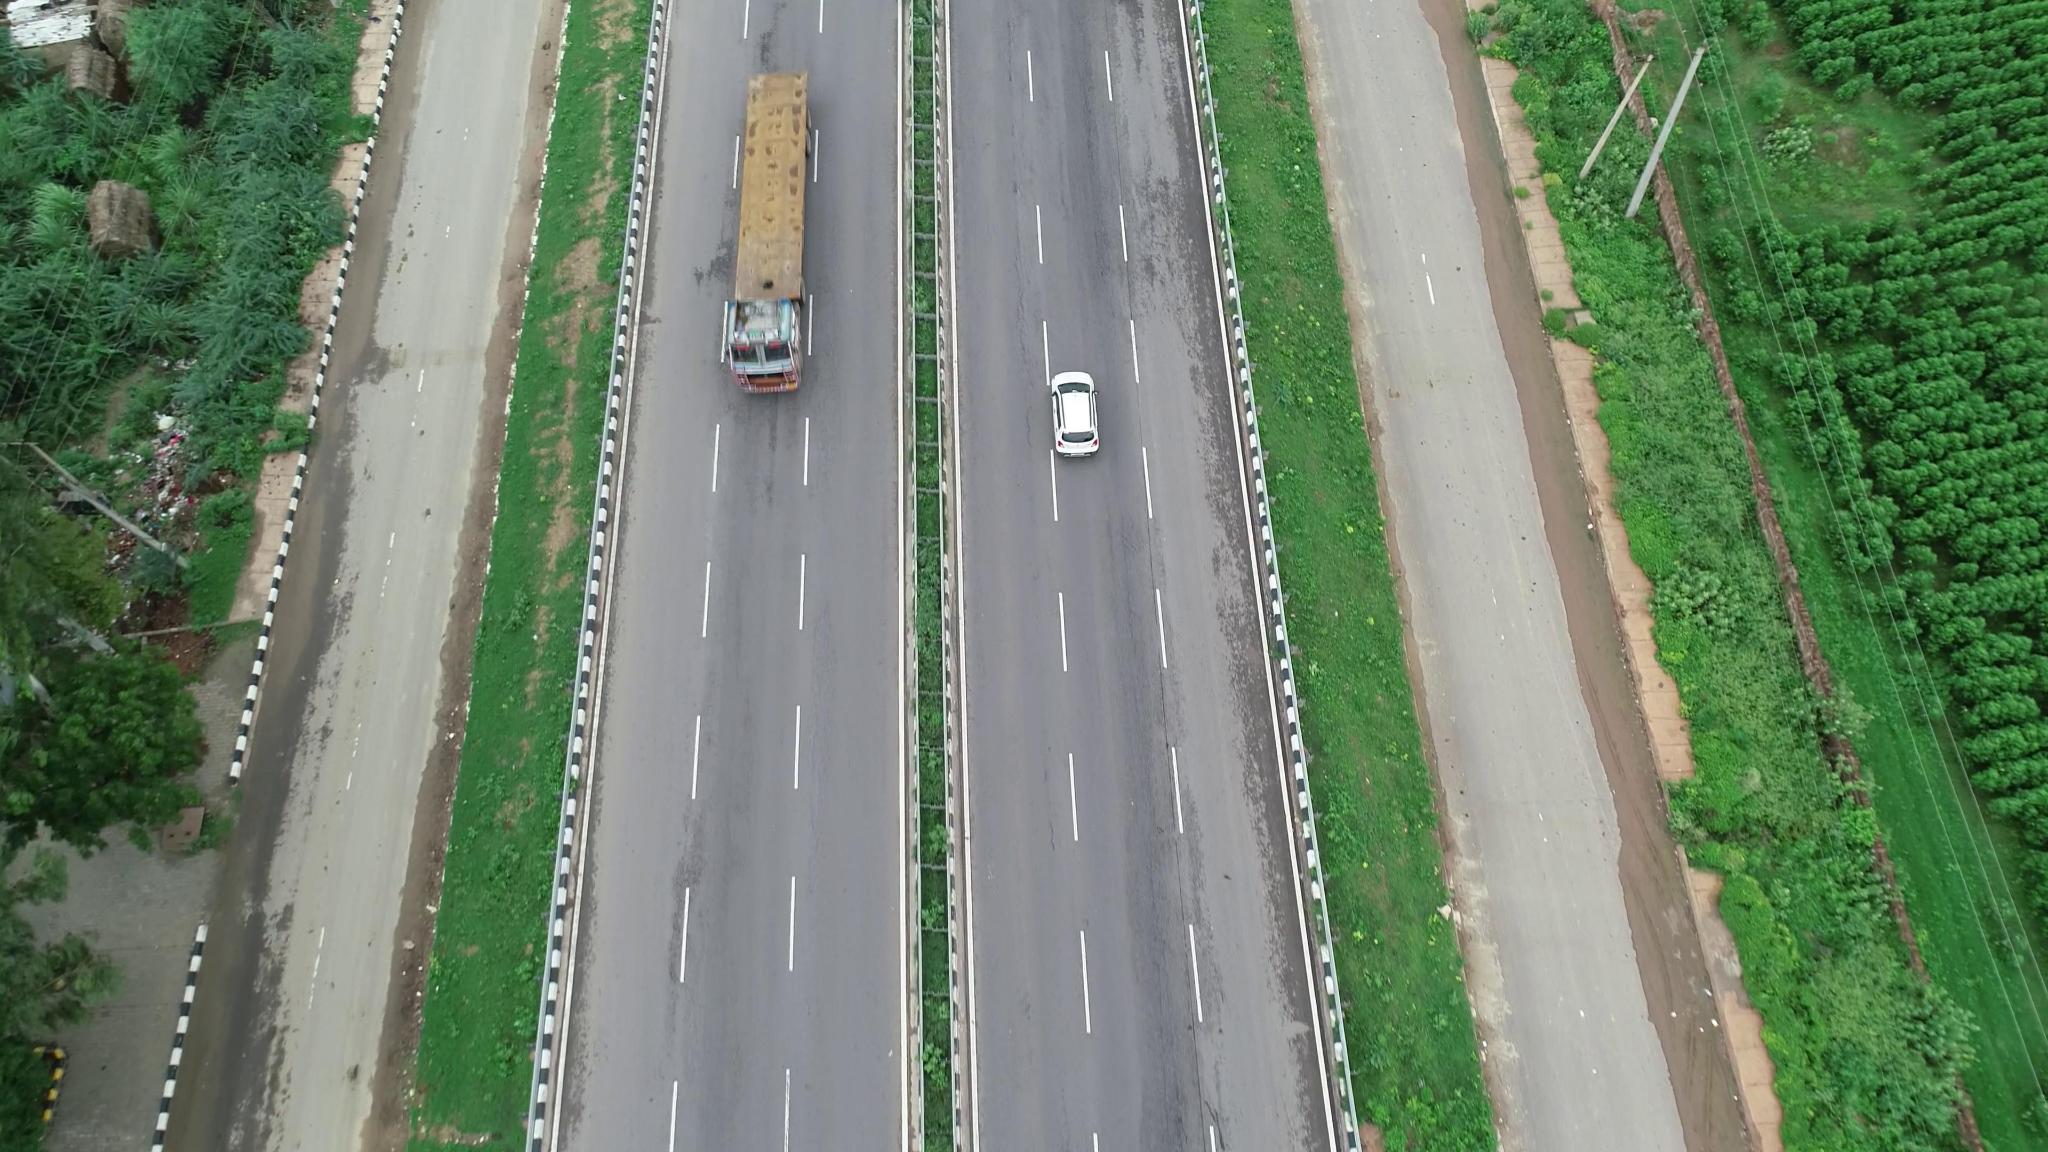Cracks: (1003, 23, 1037, 359)
